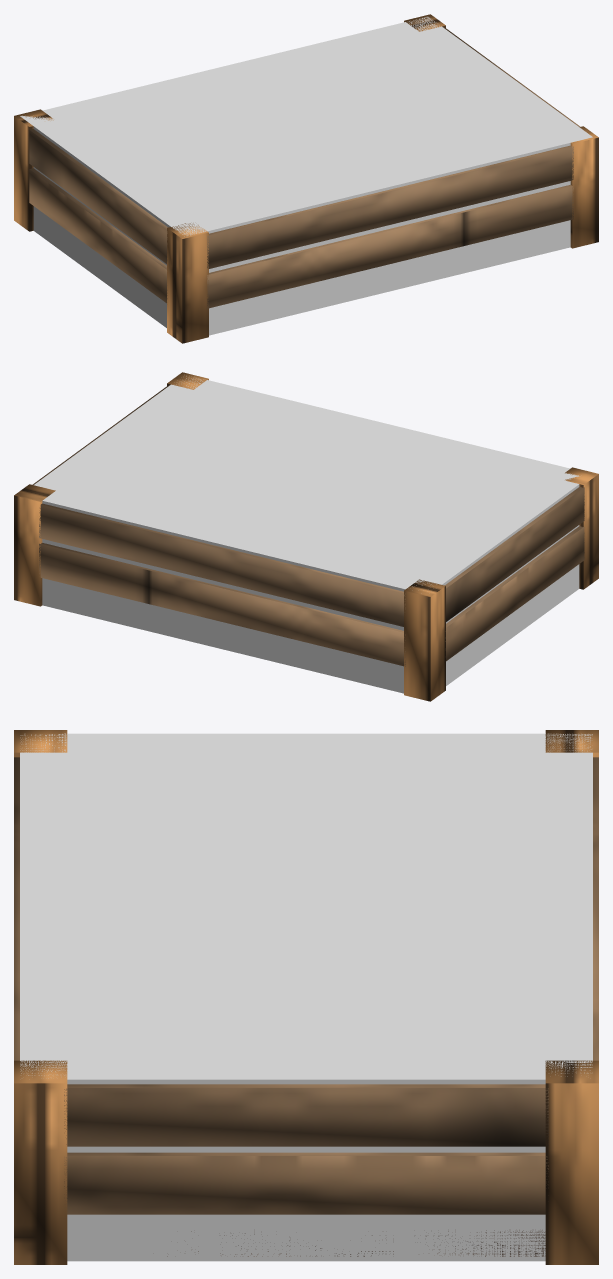
The model's file is FMS_Crate_Slatted_Low.fbx.
3 renders of one model, top to bottom at view 1: azimuth 30°, elevation 25°; view 2: azimuth 150°, elevation 25°; view 3: azimuth 270°, elevation 25°, orthographic. The views are drawn at different scales.
Visible parts, largest first — view 1: Crate_Slatted_Low_Col, Crate_Slatted_Low_LOD0; view 2: Crate_Slatted_Low_Col, Crate_Slatted_Low_LOD0; view 3: Crate_Slatted_Low_Col, Crate_Slatted_Low_LOD0.
Part boxes in pixels (left/top/right/bottom): Crate_Slatted_Low_Col: left=20, top=16, right=592, bottom=335; Crate_Slatted_Low_LOD0: left=14, top=14, right=598, bottom=343; Crate_Slatted_Low_Col: left=34, top=376, right=579, bottom=693; Crate_Slatted_Low_LOD0: left=14, top=372, right=598, bottom=701; Crate_Slatted_Low_Col: left=20, top=733, right=592, bottom=1261; Crate_Slatted_Low_LOD0: left=14, top=730, right=598, bottom=1264.
Size of what is drawn, in the model's own units: 50 by 12 by 35.
